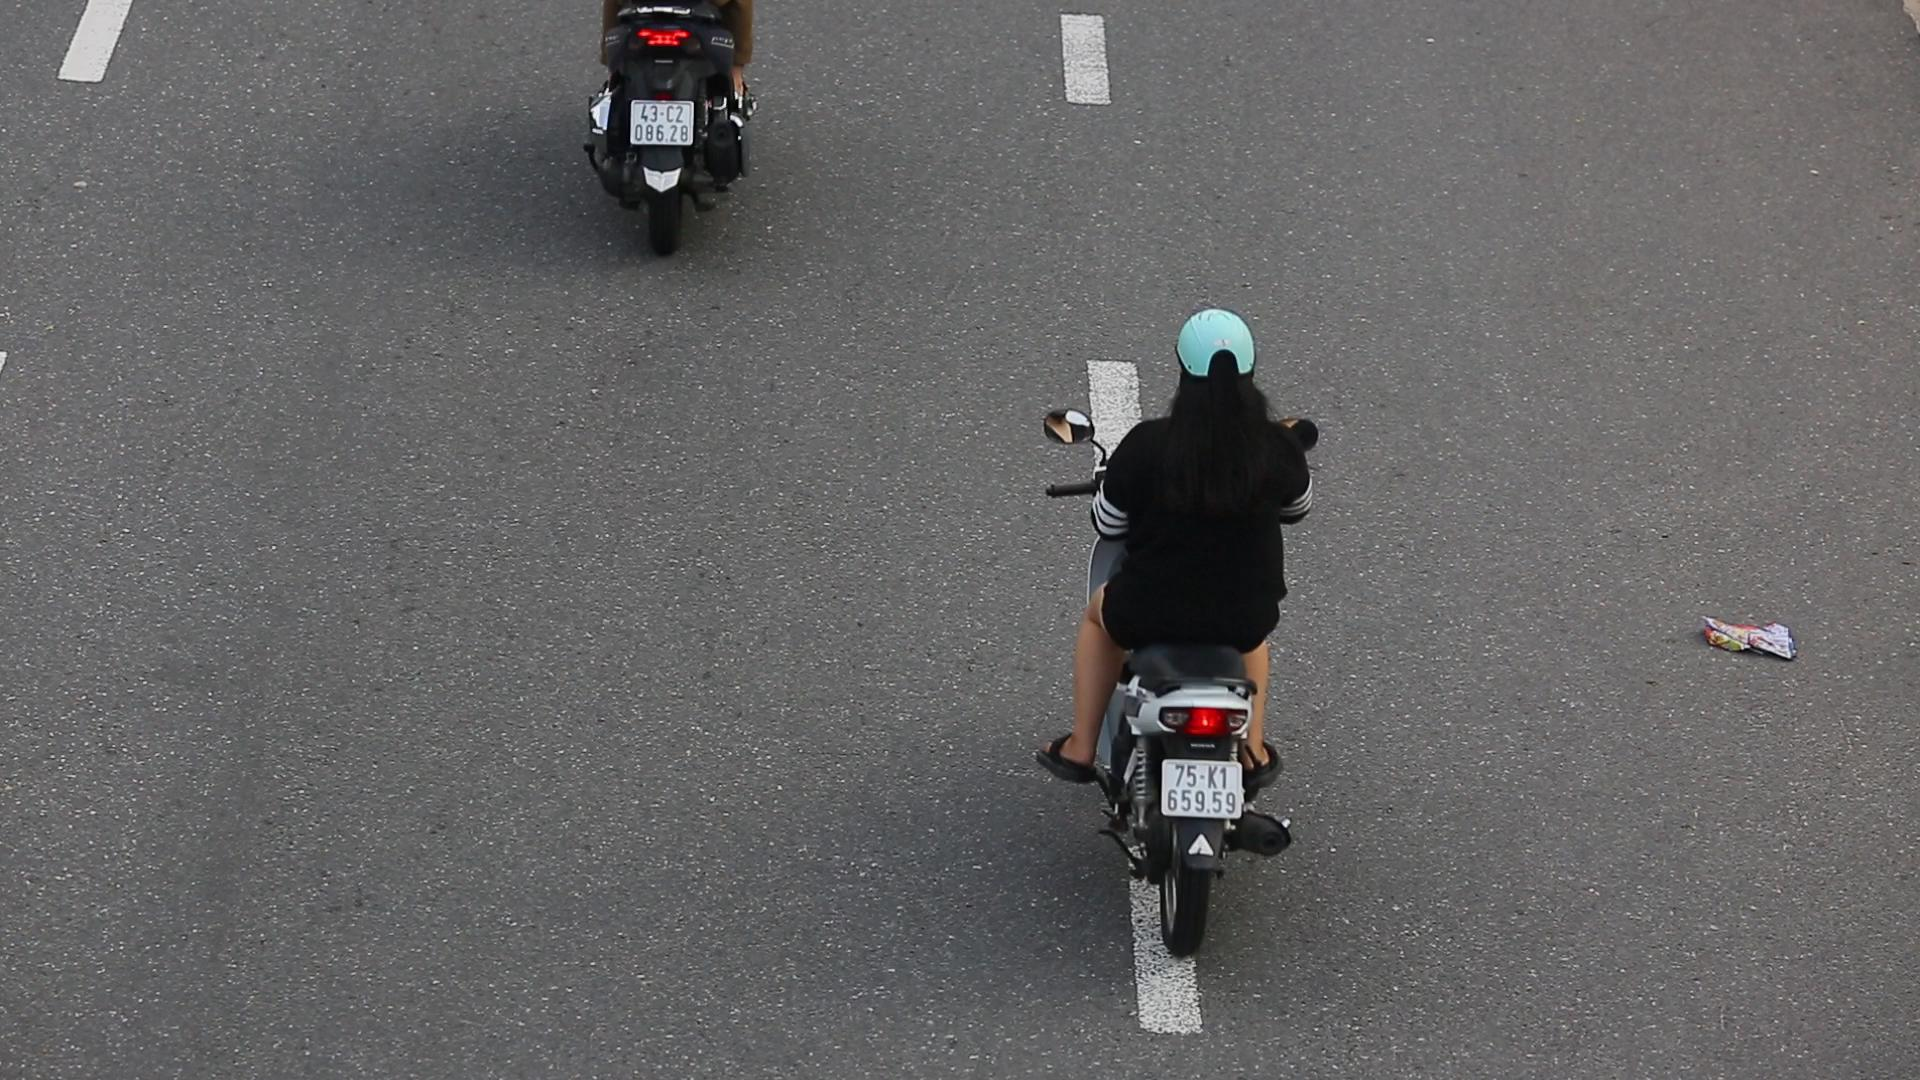motobike: (1018, 293, 1335, 965)
